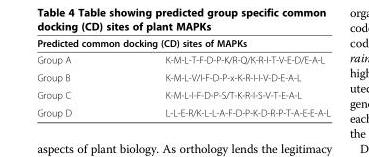table: (36, 37, 329, 118)
table column: (117, 37, 329, 118), (36, 37, 117, 118)
table column header: (36, 37, 329, 68)
table row: (36, 85, 329, 103), (36, 51, 329, 68), (36, 68, 329, 85), (36, 103, 329, 118), (36, 37, 329, 51)
table spanning cell: (36, 37, 329, 51)
